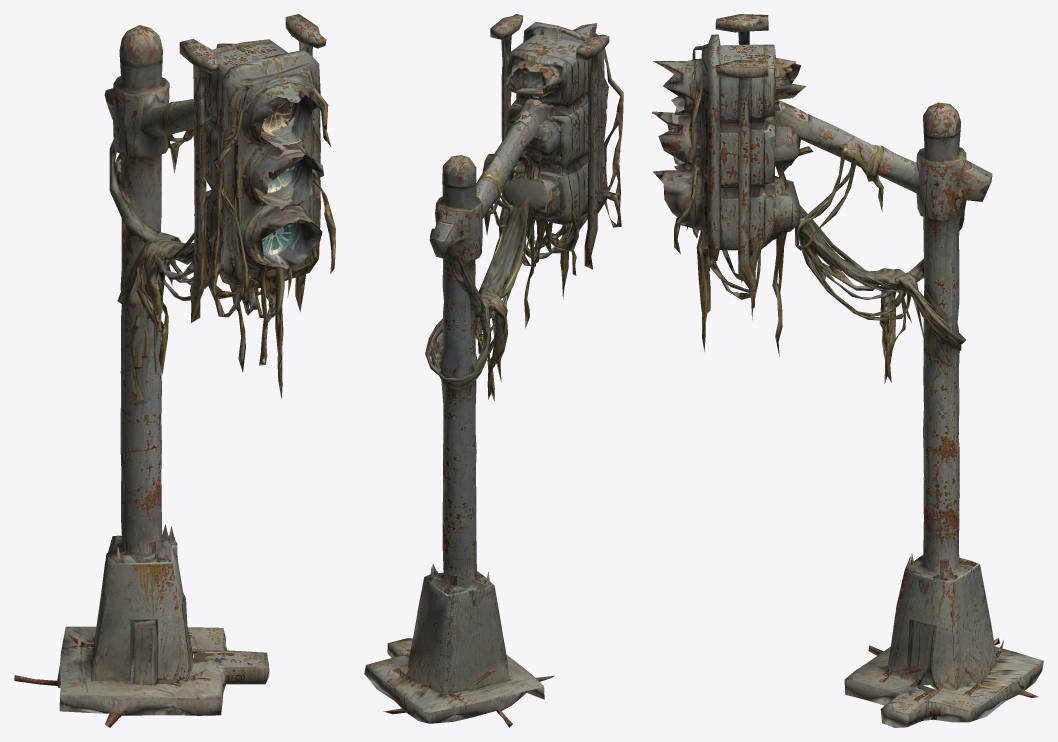
Rendered from Prop_TrafficLight.glb.
3 renders of one model, left to right at view 1: azimuth 30°, elevation 25°; view 2: azimuth 150°, elevation 25°; view 3: azimuth 270°, elevation 25°, orthographic. The views are drawn at different scales.
Visible parts, largest first — view 1: texture_mapping; view 2: texture_mapping; view 3: texture_mapping.
Boxes of the visible parts, box(x1,y1,x2,y2) form: texture_mapping: box(14, 14, 335, 727); texture_mapping: box(364, 14, 623, 727); texture_mapping: box(652, 14, 1043, 727).
Bounding box in the file's own units: 0.2925 × 0.9975 × 0.5499.
Materials: 1 (1 with a texture image).
